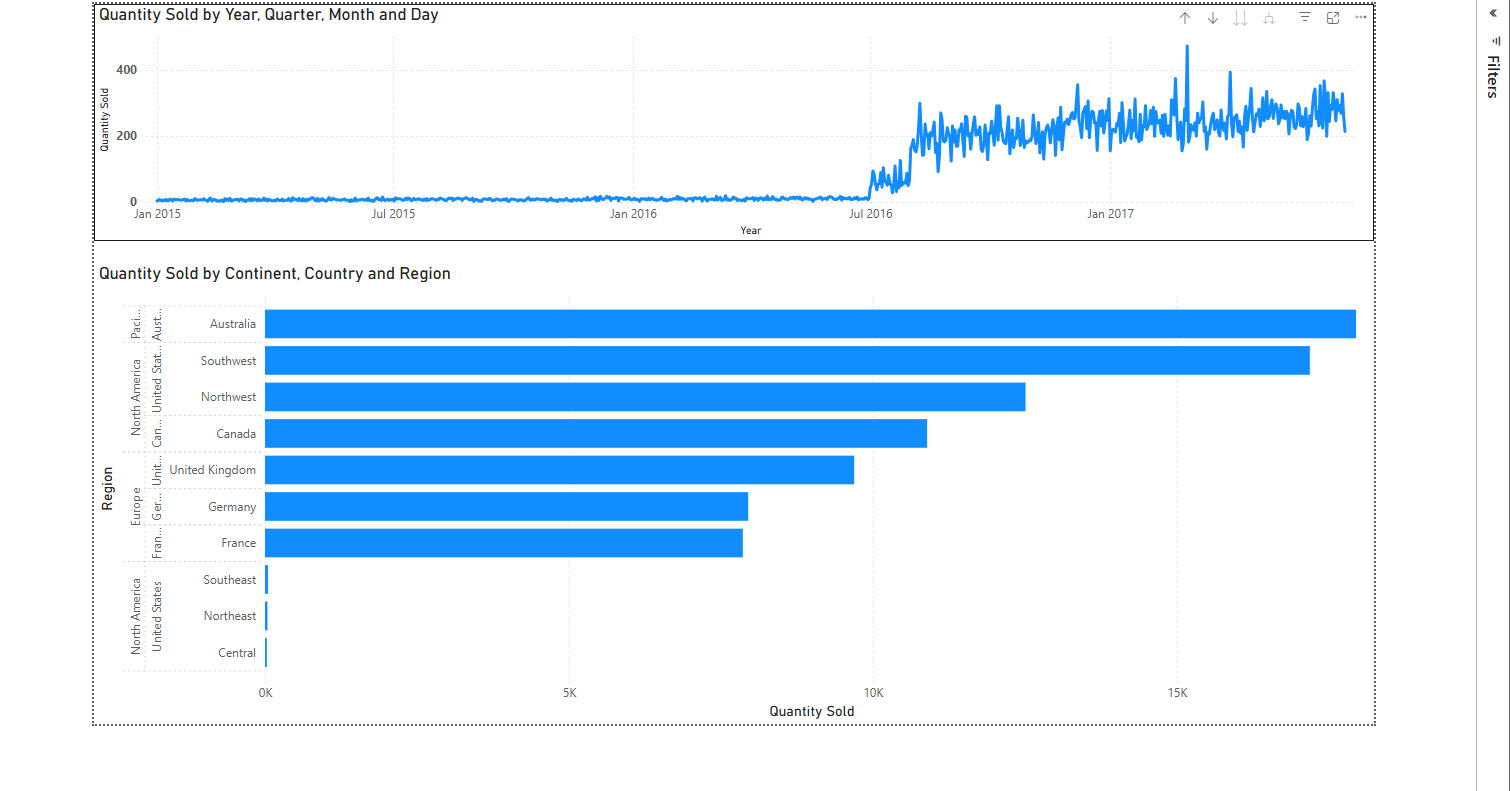

What the dashboard file says about the page in this screenshot:
{"tool":"powerbi","page":{"name":"Hierarchy","canvas":[1280,720],"ordinal":0},"visuals":[{"type":"lineChart","fields":{"Y":["A Measurable Table.Quantity Sold"],"Category":["Dim Calendar.Date.Variation.Date Hierarchy.Year","Dim Calendar.Date.Variation.Date Hierarchy.Quarter","Dim Calendar.Date.Variation.Date Hierarchy.Month","Dim Calendar.Date.Variation.Date Hierarchy.Day"]},"box":[0,0,1280,237],"z":0},{"type":"clusteredBarChart","fields":{"Category":["Dim Territories.Hierarchy.Continent","Dim Territories.Hierarchy.Country","Dim Territories.Hierarchy.Region"],"Y":["A Measurable Table.Quantity Sold"]},"box":[0,259,1280,461],"z":1}]}

Visuals, with their boxes on the page's 1280x720 design canvas (x1, y1, x2, y2). These are canvas units, not pixel positions in the 1510x791 screenshot, which may show the page scaled, cropped or inside an application window:
lineChart - A Measurable Table.Quantity Sold x Dim Calendar.Date.Variation.Date Hierarchy.Year: bbox=(0, 0, 1280, 237)
clusteredBarChart - Dim Territories.Hierarchy.Continent x Dim Territories.Hierarchy.Country: bbox=(0, 259, 1280, 720)
